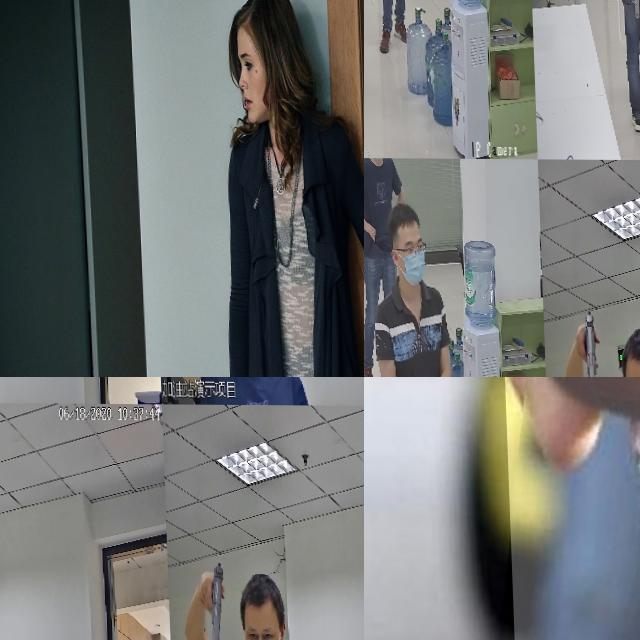-: (495, 377, 640, 640)
gun-knife-thesis - v11 Yolov5 augmented: (192, 555, 222, 640), (568, 308, 594, 377), (0, 566, 14, 640), (186, 377, 208, 413), (0, 377, 16, 411), (620, 0, 640, 25), (364, 0, 372, 13)
